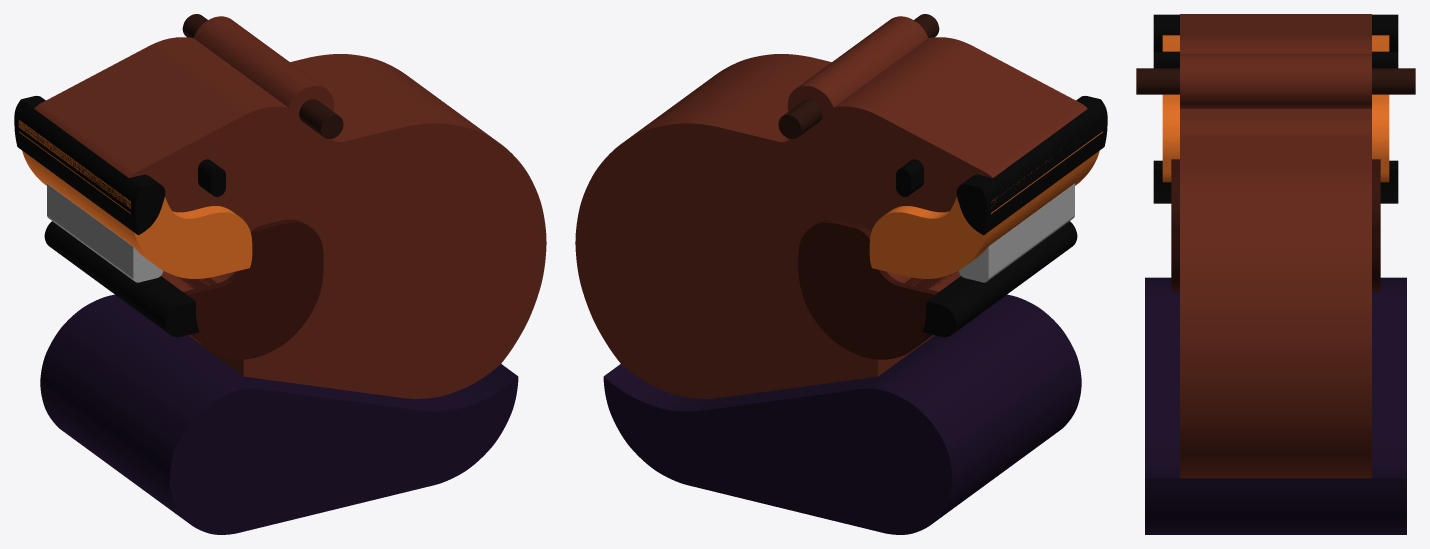
3 views of the same model, side by side, from view 1: azimuth 30°, elevation 25°; view 2: azimuth 150°, elevation 25°; view 3: azimuth 270°, elevation 25° (orthographic).
Visible parts, largest first — view 1: U+1F9AB_layer01_obj00, U+1F9AB_layer05_obj00, U+1F9AB_layer04_obj00, U+1F9AB_layer02_obj00, U+1F9AB_layer03_obj00, U+1F9AB_layer00_obj00, U+1F9AB_layer06_obj00; view 2: U+1F9AB_layer01_obj00, U+1F9AB_layer05_obj00, U+1F9AB_layer04_obj00, U+1F9AB_layer02_obj00, U+1F9AB_layer03_obj00, U+1F9AB_layer00_obj00, U+1F9AB_layer06_obj00; view 3: U+1F9AB_layer01_obj00, U+1F9AB_layer05_obj00, U+1F9AB_layer04_obj00, U+1F9AB_layer03_obj00, U+1F9AB_layer02_obj00, U+1F9AB_layer06_obj00.
Boxes of the visible parts, x1=… form: U+1F9AB_layer01_obj00: x1=34, y1=16, x2=546, y2=398; U+1F9AB_layer05_obj00: x1=40, y1=294, x2=518, y2=534; U+1F9AB_layer04_obj00: x1=14, y1=95, x2=225, y2=337; U+1F9AB_layer02_obj00: x1=176, y1=219, x2=323, y2=359; U+1F9AB_layer03_obj00: x1=18, y1=120, x2=252, y2=278; U+1F9AB_layer00_obj00: x1=47, y1=183, x2=163, y2=282; U+1F9AB_layer06_obj00: x1=182, y1=14, x2=343, y2=138; U+1F9AB_layer01_obj00: x1=575, y1=16, x2=1087, y2=398; U+1F9AB_layer05_obj00: x1=603, y1=294, x2=1081, y2=534; U+1F9AB_layer04_obj00: x1=896, y1=95, x2=1107, y2=337; U+1F9AB_layer02_obj00: x1=798, y1=219, x2=958, y2=359; U+1F9AB_layer03_obj00: x1=869, y1=131, x2=1102, y2=278; U+1F9AB_layer00_obj00: x1=958, y1=183, x2=1074, y2=282; U+1F9AB_layer06_obj00: x1=778, y1=14, x2=939, y2=138; U+1F9AB_layer01_obj00: x1=1180, y1=14, x2=1371, y2=478; U+1F9AB_layer05_obj00: x1=1145, y1=277, x2=1406, y2=534; U+1F9AB_layer04_obj00: x1=1153, y1=14, x2=1398, y2=203; U+1F9AB_layer03_obj00: x1=1162, y1=35, x2=1389, y2=182; U+1F9AB_layer02_obj00: x1=1171, y1=159, x2=1380, y2=291; U+1F9AB_layer06_obj00: x1=1136, y1=68, x2=1415, y2=94.
Size of the model in its own units: 0.5678 by 0.5271 by 0.32.
